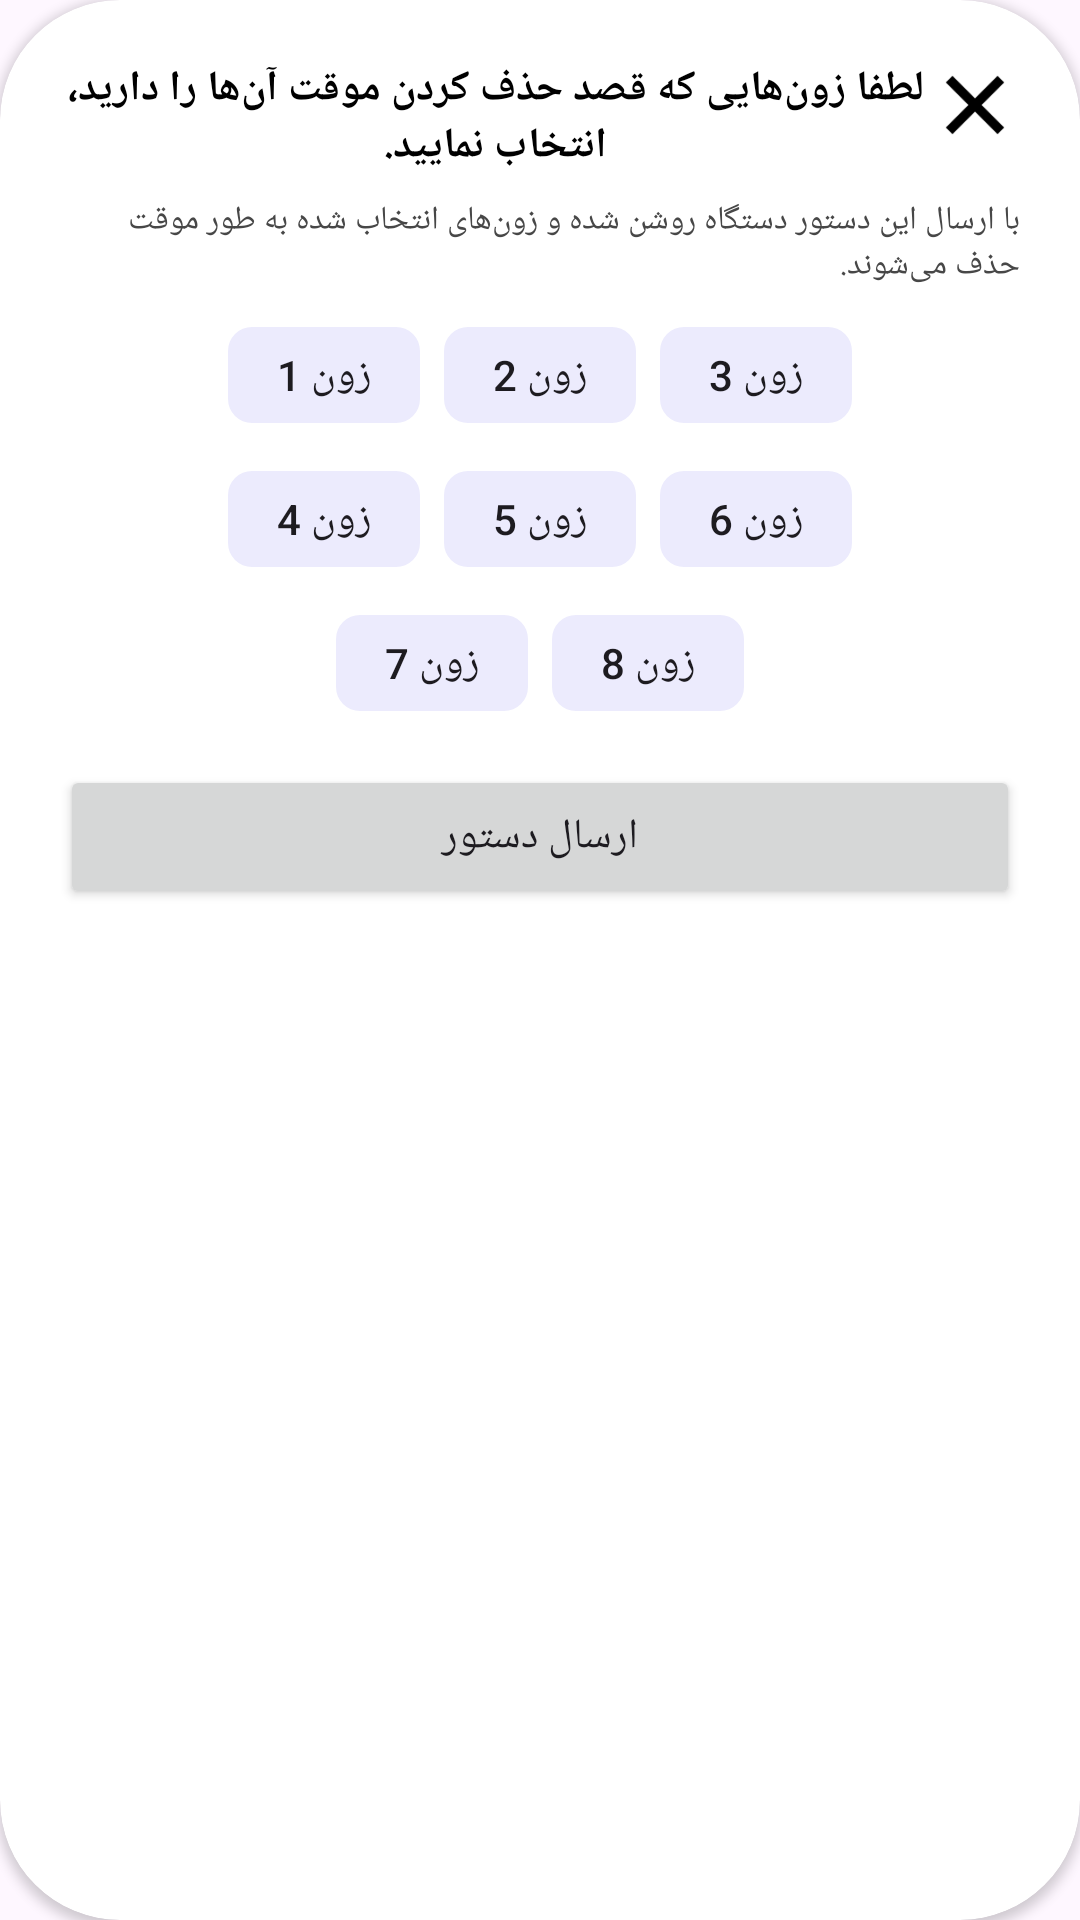

Screen size 1080px x 1920px. Icon name, then its box in pixels as (x1, y1, x2, y2):
close: (946, 76, 1004, 134)
